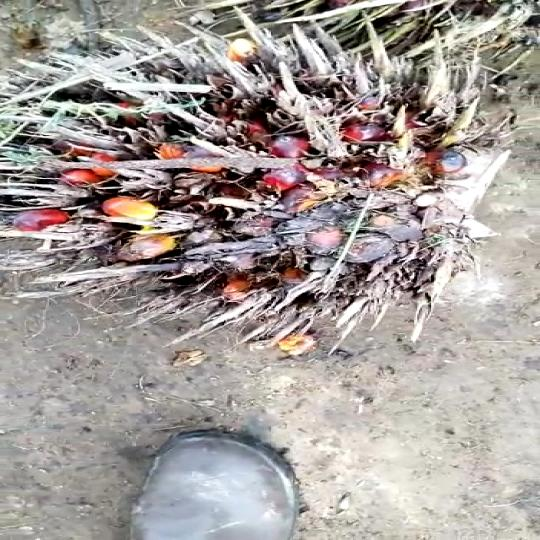terlalu masak: (0, 7, 540, 365)
